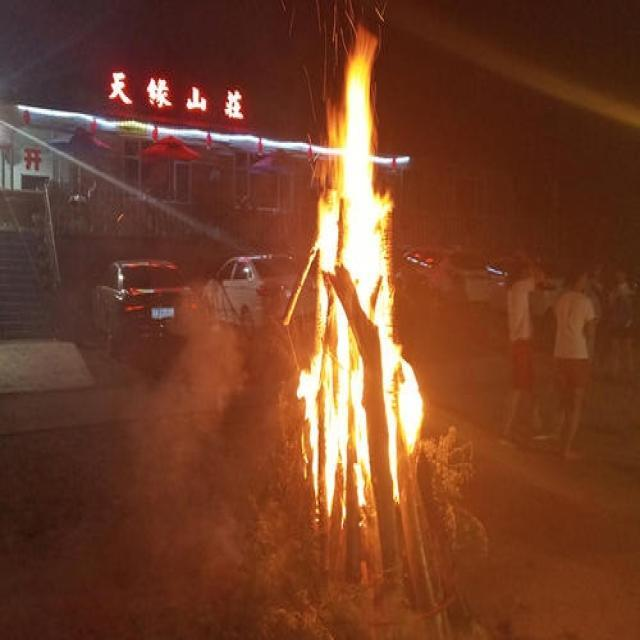Fire: (284, 8, 426, 522)
Smoke: (0, 282, 281, 640)
